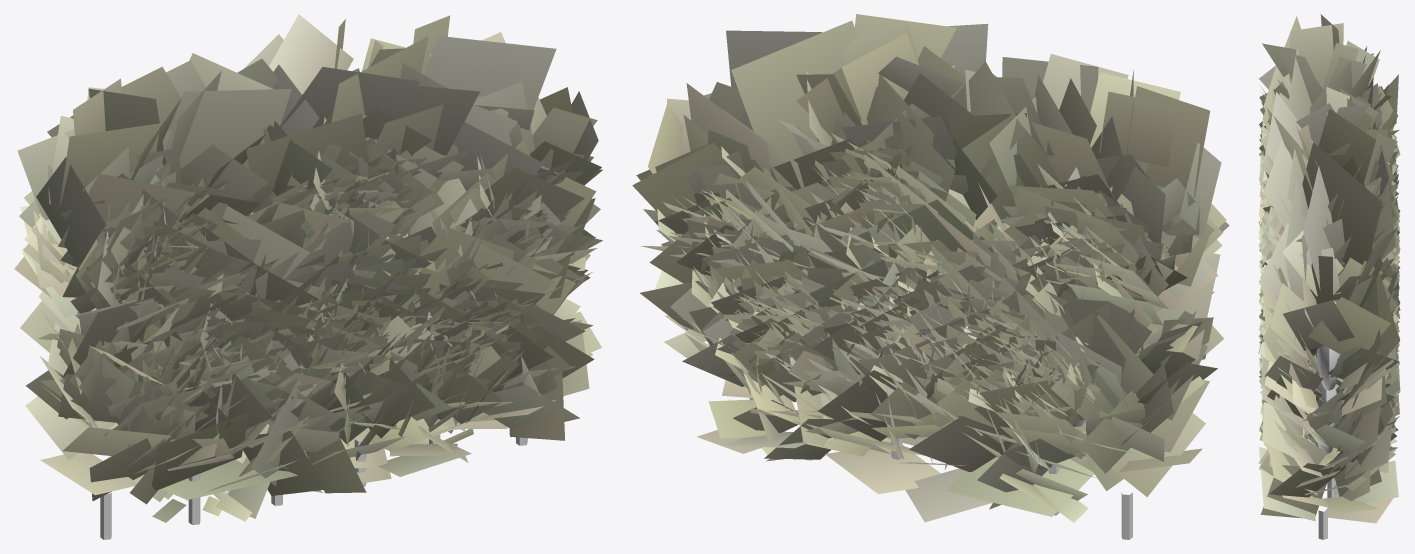
File: hedge_thin.glb
The picture shows the model from 3 angles, left to right: view 1: azimuth 30°, elevation 25°; view 2: azimuth 150°, elevation 25°; view 3: azimuth 270°, elevation 25°; orthographic projection. The views are drawn at different scales.
Parts seen in each view (by area): view 1: hedge_thin; view 2: hedge_thin; view 3: hedge_thin.
Boxes of the visible parts, left/top/right/bottom form: hedge_thin: left=14, top=14, right=602, bottom=539; hedge_thin: left=632, top=14, right=1229, bottom=539; hedge_thin: left=1258, top=14, right=1400, bottom=539.
Size of the model in its own units: 3.52 by 2.85 by 1.02.
